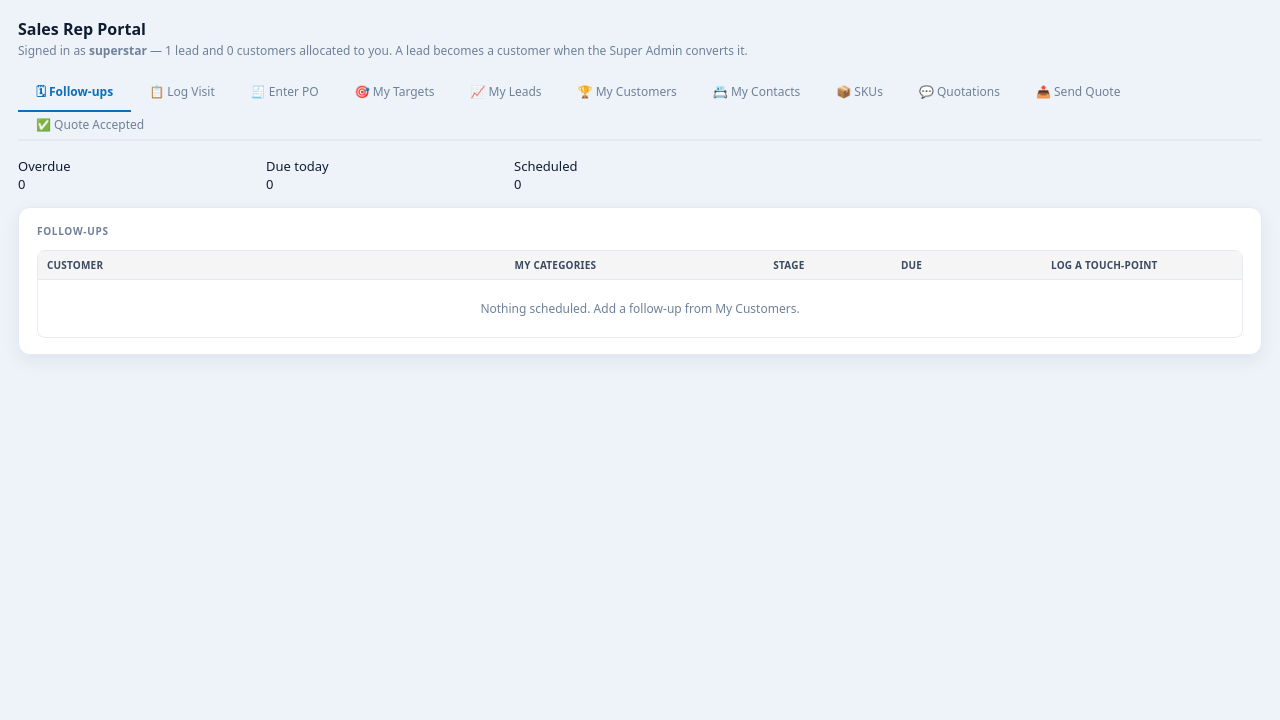
Rep Portal — the tabs production ships › logs a visit and moves the lead's next ping with it
Expected: the text "🗓 Follow-ups" is shown, [18,77,131,112]
Click the text "📋 Log Visit".
click(182, 92)  # box [149,83,215,100]
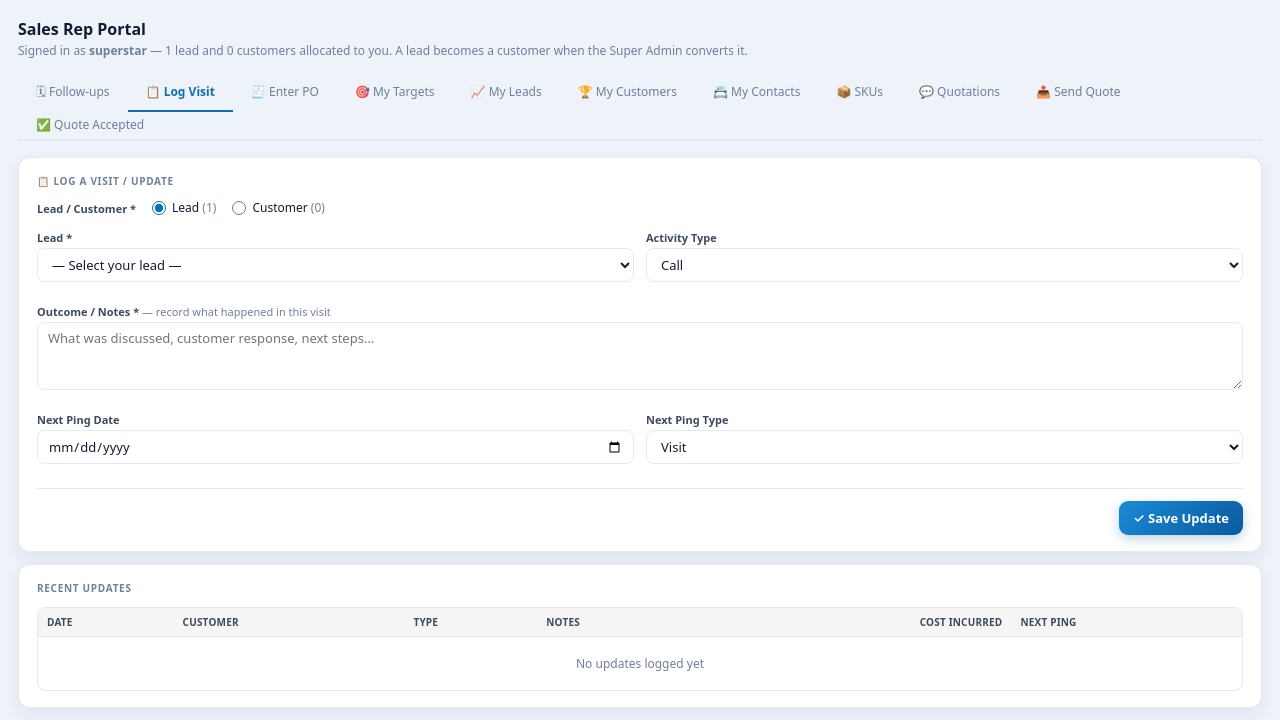
Select "Acme Dairy" in the dropdown named "Visit Lead" at (336, 265), box [37,248,634,282]
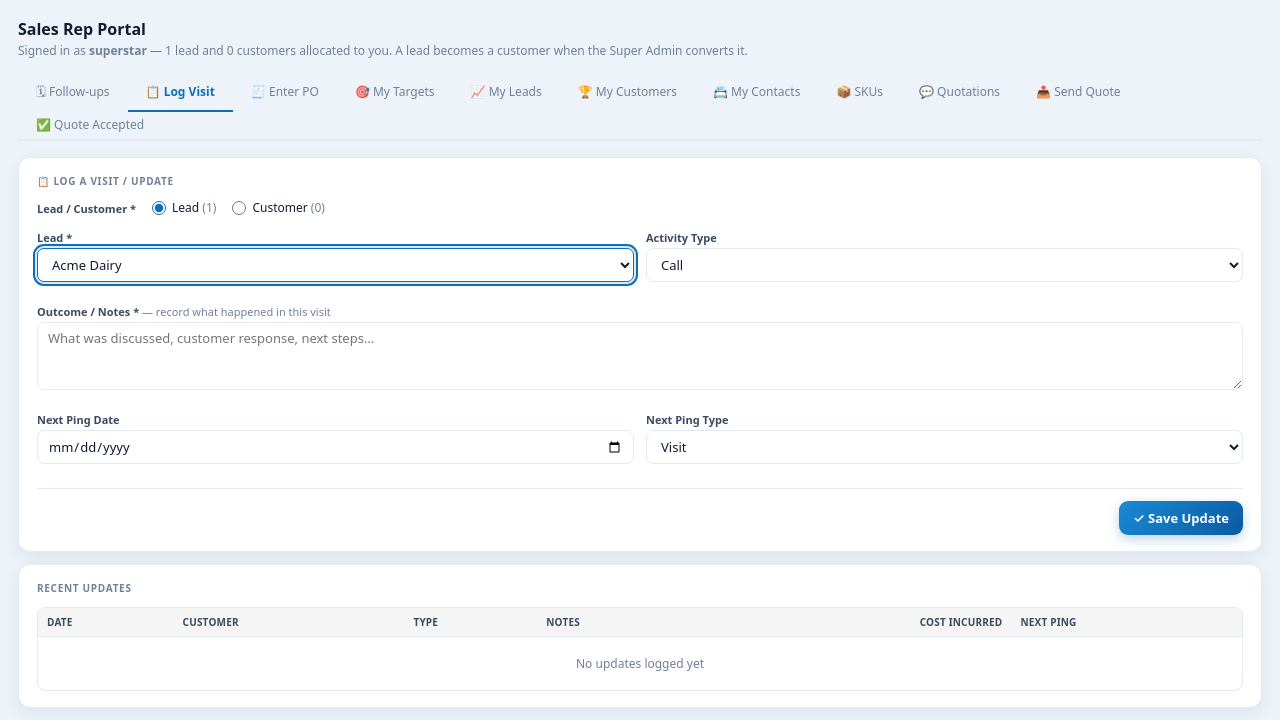
Type "Met the buyer, samples approved" into the text box named "Outcome / Notes".
click(640, 356); type("Met the buyer, samples approved")  # box [37,322,1243,390]
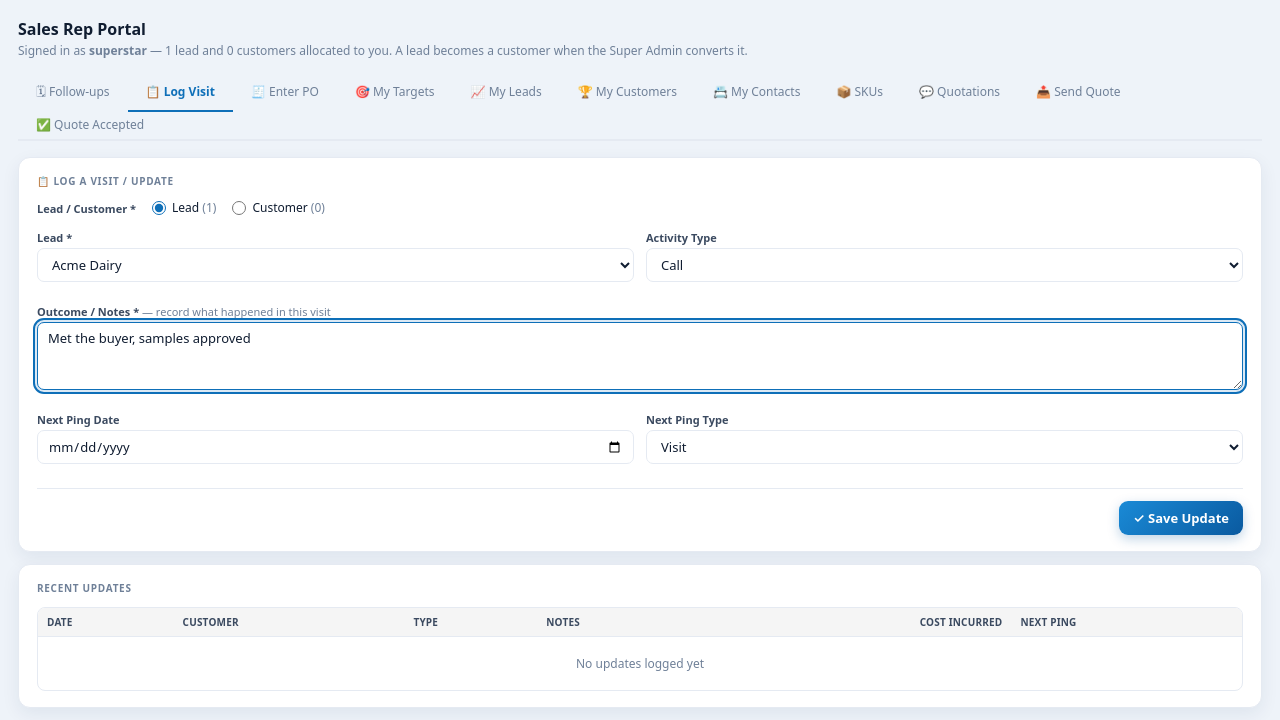
Click the button "✓ Save Update".
click(1181, 518)  # box [1119,501,1243,535]
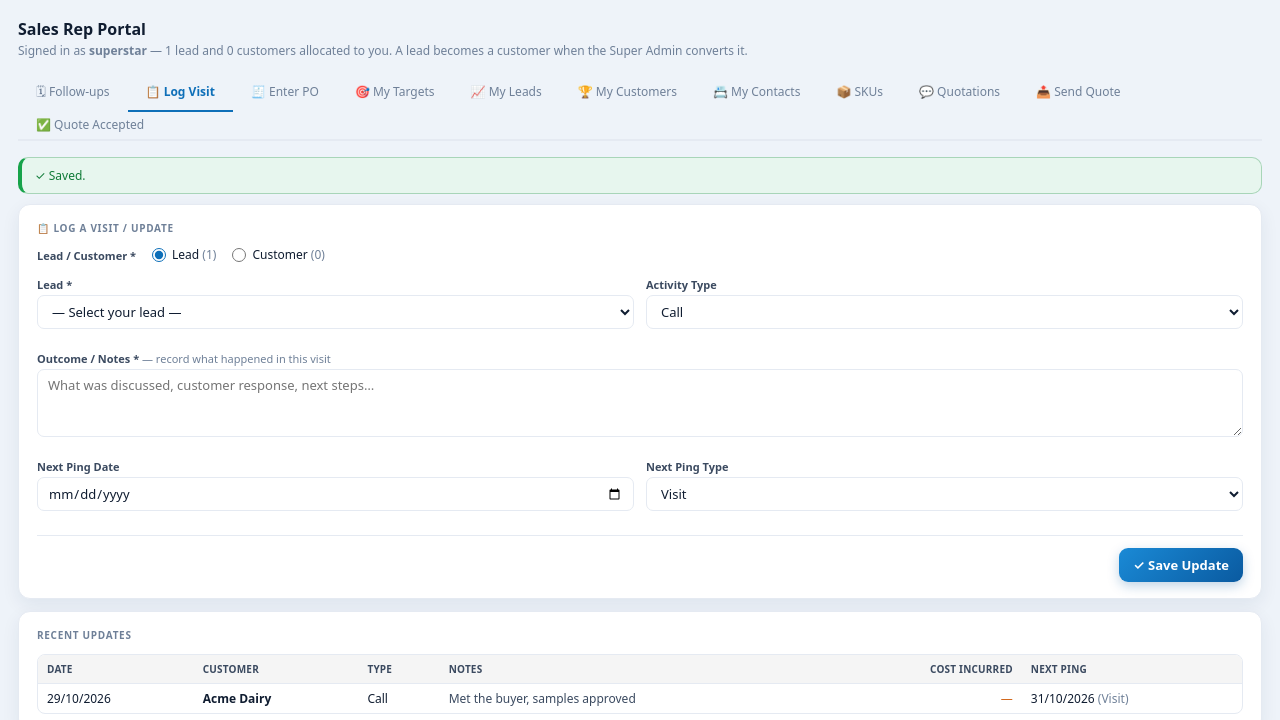
Now the cell "Met the buyer, samples approved" is shown, box [440,684,830,713]
